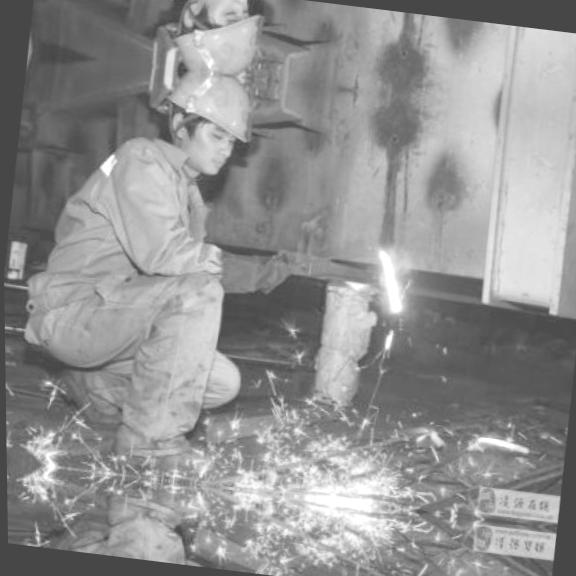safety_vest: (1, 53, 345, 495), (7, 460, 298, 576), (48, 0, 350, 87)
